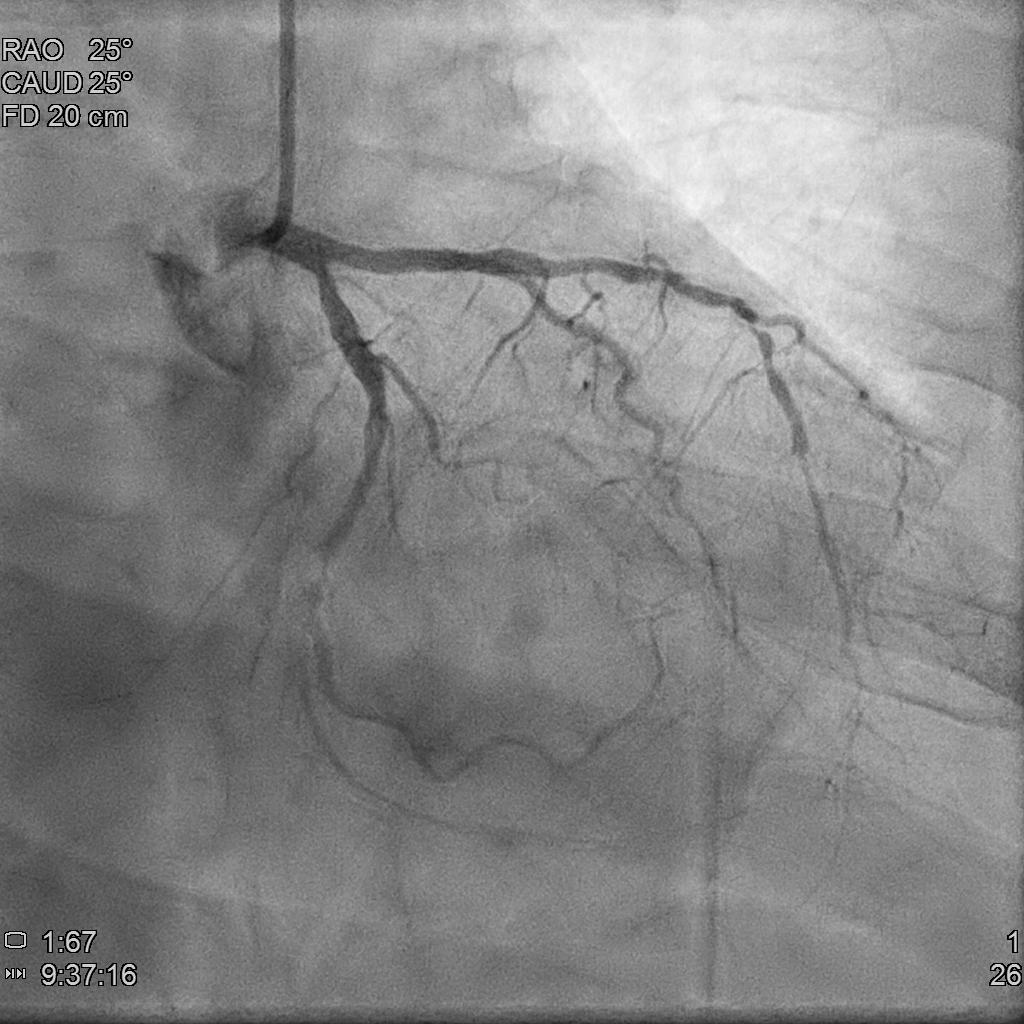block: (288, 527, 360, 660)
